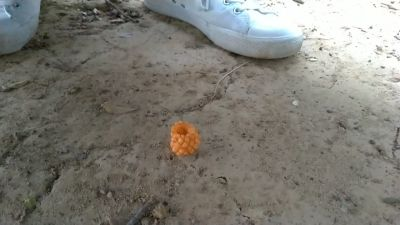eggs: (169, 119, 202, 158)
